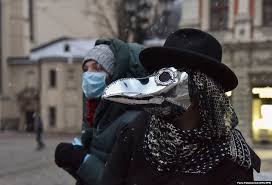mask: (81, 55, 109, 97)
